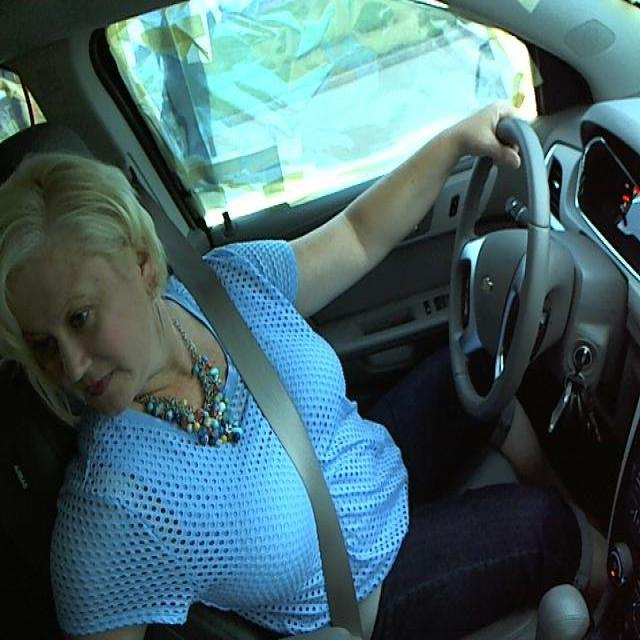seatbelt: (201, 292, 402, 639)
